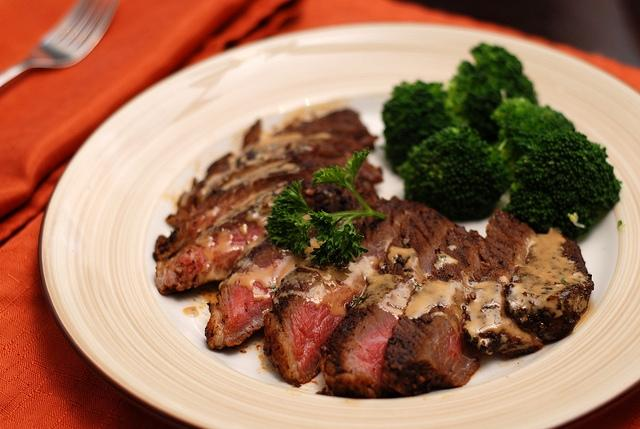broccoli: (502, 126, 622, 240), (394, 126, 514, 222), (449, 44, 538, 144), (379, 80, 470, 175), (490, 96, 574, 164)
